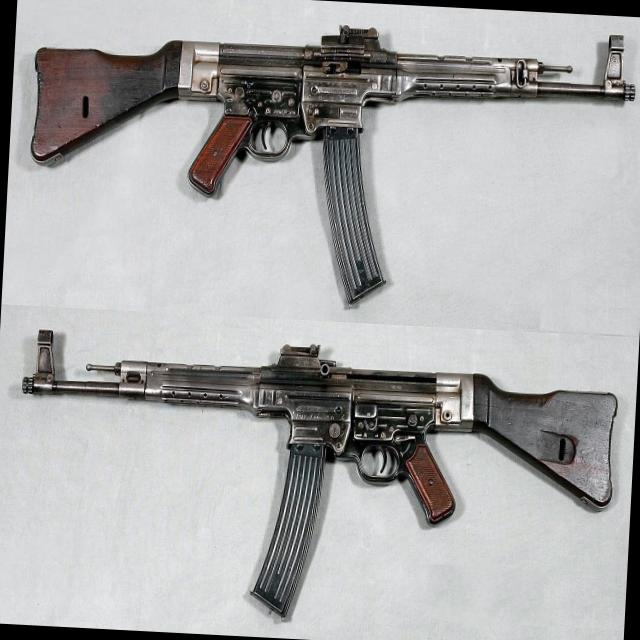Automaticrifle: (21, 8, 640, 322), (3, 327, 627, 636)
